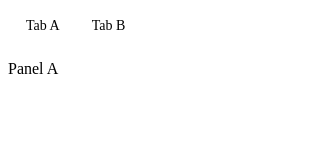
Tabs › switches active panel when a different trigger is clicked (via user-event for mousedown)
Step 1. Click the tab "Tab B" → (108, 26), box [78,12,139,40]
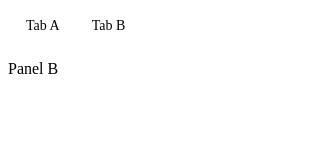
Check: the text "Panel B" is shown, box [8,60,58,77]
Check: the text "Panel A" is gone
